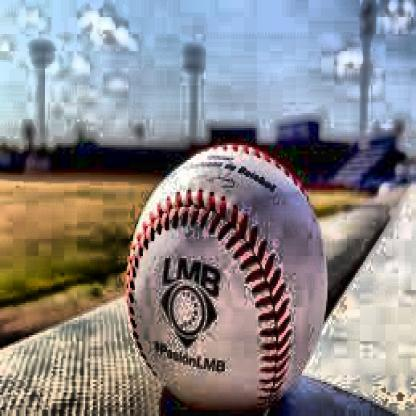baseball: (130, 140, 328, 411)
